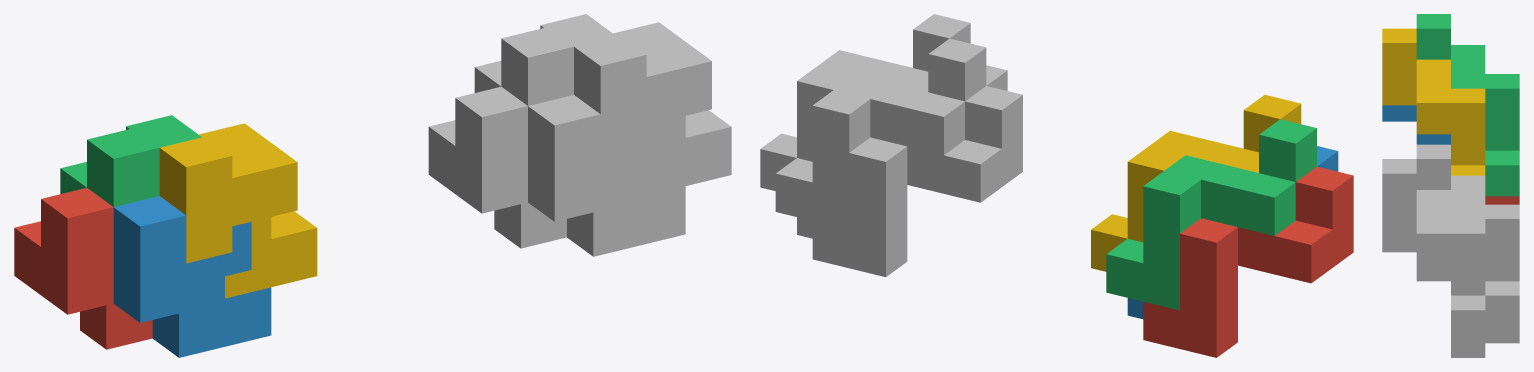
Rendered from tiling.obj.
3 renders of one model, left to right at view 1: azimuth 30°, elevation 25°; view 2: azimuth 150°, elevation 25°; view 3: azimuth 270°, elevation 25°, orthographic. The views are drawn at different scales.
Visible parts, largest first — view 1: copy_1_domain_4, copy_1_domain_8, copy_1_domain_2, copy_1_domain_6, copy_1_domain_1, copy_1_domain_5, copy_1_domain_7, copy_1_domain_3; view 2: copy_1_domain_5, copy_1_domain_1, copy_1_domain_7, copy_1_domain_3, copy_1_domain_4, copy_1_domain_8, copy_1_domain_2, copy_1_domain_6; view 3: copy_1_domain_8, copy_1_domain_4, copy_1_domain_3, copy_1_domain_7, copy_1_domain_6, copy_1_domain_2, copy_1_domain_5, copy_1_domain_1.
Part boxes in pixels (x1=…): copy_1_domain_4: x1=159, y1=123, x2=317, y2=298; copy_1_domain_8: x1=574, y1=22, x2=731, y2=197; copy_1_domain_2: x1=113, y1=196, x2=271, y2=357; copy_1_domain_6: x1=528, y1=95, x2=685, y2=256; copy_1_domain_1: x1=14, y1=188, x2=152, y2=349; copy_1_domain_5: x1=428, y1=86, x2=566, y2=248; copy_1_domain_7: x1=474, y1=14, x2=616, y2=105; copy_1_domain_3: x1=60, y1=115, x2=201, y2=206; copy_1_domain_5: x1=812, y1=86, x2=1022, y2=277; copy_1_domain_1: x1=1143, y1=166, x2=1353, y2=357; copy_1_domain_7: x1=775, y1=38, x2=986, y2=229; copy_1_domain_3: x1=1106, y1=119, x2=1316, y2=310; copy_1_domain_4: x1=1091, y1=95, x2=1301, y2=271; copy_1_domain_8: x1=760, y1=14, x2=970, y2=190; copy_1_domain_2: x1=1127, y1=146, x2=1338, y2=319; copy_1_domain_6: x1=797, y1=65, x2=1007, y2=238; copy_1_domain_8: x1=1382, y1=159, x2=1485, y2=341; copy_1_domain_4: x1=1382, y1=28, x2=1485, y2=175; copy_1_domain_3: x1=1416, y1=14, x2=1519, y2=196; copy_1_domain_7: x1=1416, y1=144, x2=1519, y2=326; copy_1_domain_6: x1=1382, y1=235, x2=1485, y2=357; copy_1_domain_2: x1=1382, y1=105, x2=1450, y2=144; copy_1_domain_5: x1=1485, y1=327, x2=1519, y2=343; copy_1_domain_1: x1=1485, y1=196, x2=1519, y2=204.
Bounding box in the file's own units: 15 × 5 × 4.
